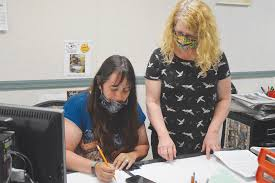mask_weared_incorrect: (106, 83, 131, 109)
with_mask: (175, 27, 196, 48)
